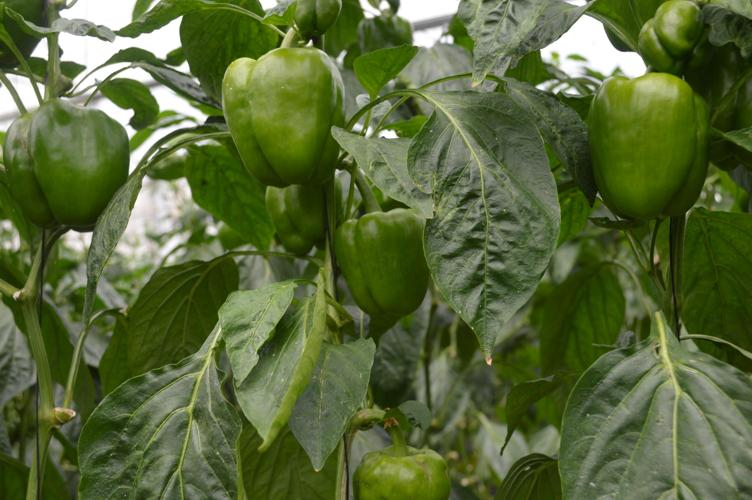BellPepper: (591, 75, 710, 216), (220, 51, 343, 179), (7, 102, 127, 218), (326, 207, 435, 316), (257, 180, 337, 256), (348, 451, 453, 500), (635, 4, 697, 71)
